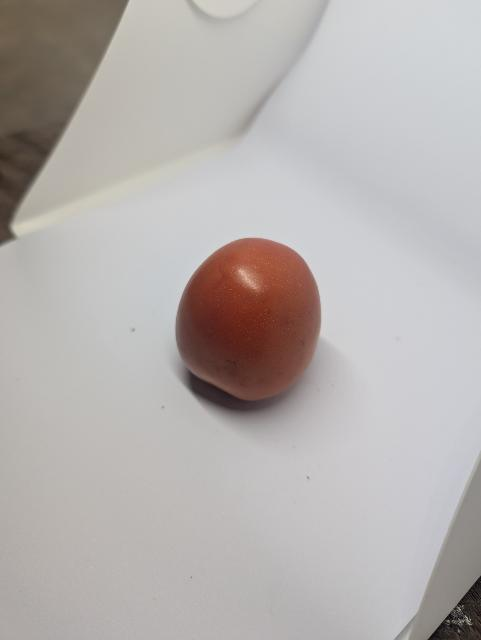red: (173, 237, 323, 405)
